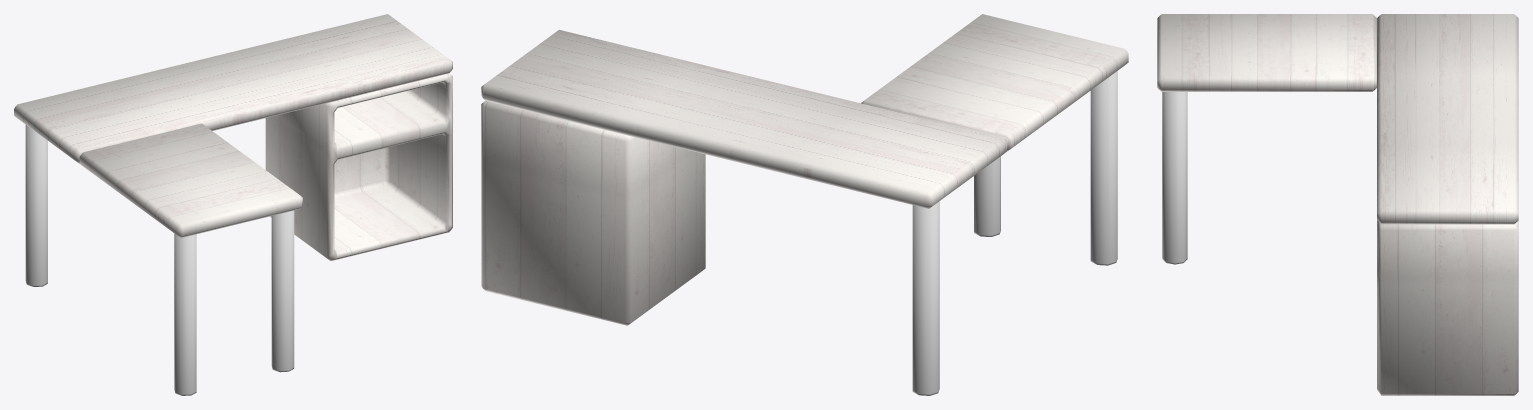
File: escritorio.fbx
The picture shows the model from 3 angles, left to right: view 1: azimuth 30°, elevation 25°; view 2: azimuth 150°, elevation 25°; view 3: azimuth 270°, elevation 25°; orthographic projection. The views are drawn at different scales.
Visible parts, largest first — view 1: Escritorio; view 2: Escritorio; view 3: Escritorio.
Part boxes in pixels (left/top/right/bottom): Escritorio: left=14, top=14, right=452, bottom=395; Escritorio: left=481, top=14, right=1128, bottom=395; Escritorio: left=1157, top=14, right=1518, bottom=395.
Size of the model in its own units: 186 by 81.97 by 143.
